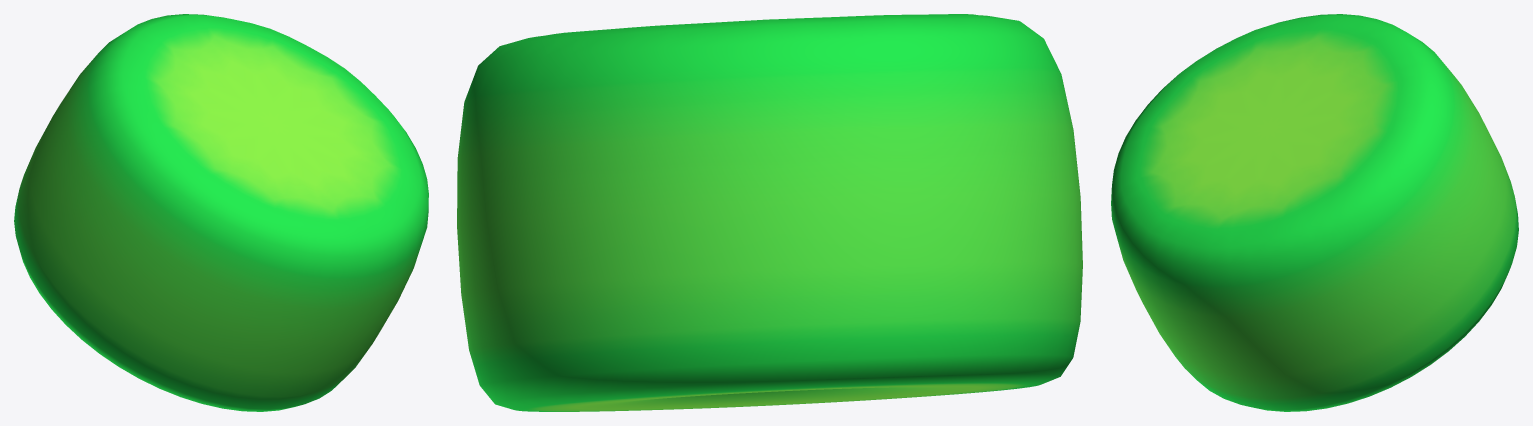
3 renders of one model, left to right at view 1: azimuth 30°, elevation 25°; view 2: azimuth 150°, elevation 25°; view 3: azimuth 270°, elevation 25°, orthographic. The views are drawn at different scales.
Parts seen in each view (by area): view 1: Cylinder.417; view 2: Cylinder.417; view 3: Cylinder.417.
Boxes of the visible parts, x1=… form: Cylinder.417: x1=14, y1=14, x2=428, y2=411; Cylinder.417: x1=457, y1=14, x2=1082, y2=411; Cylinder.417: x1=1111, y1=14, x2=1518, y2=411.
Bounding box in the file's own units: 5.83 × 5.06 × 5.91.
1 material, 1 textured.
